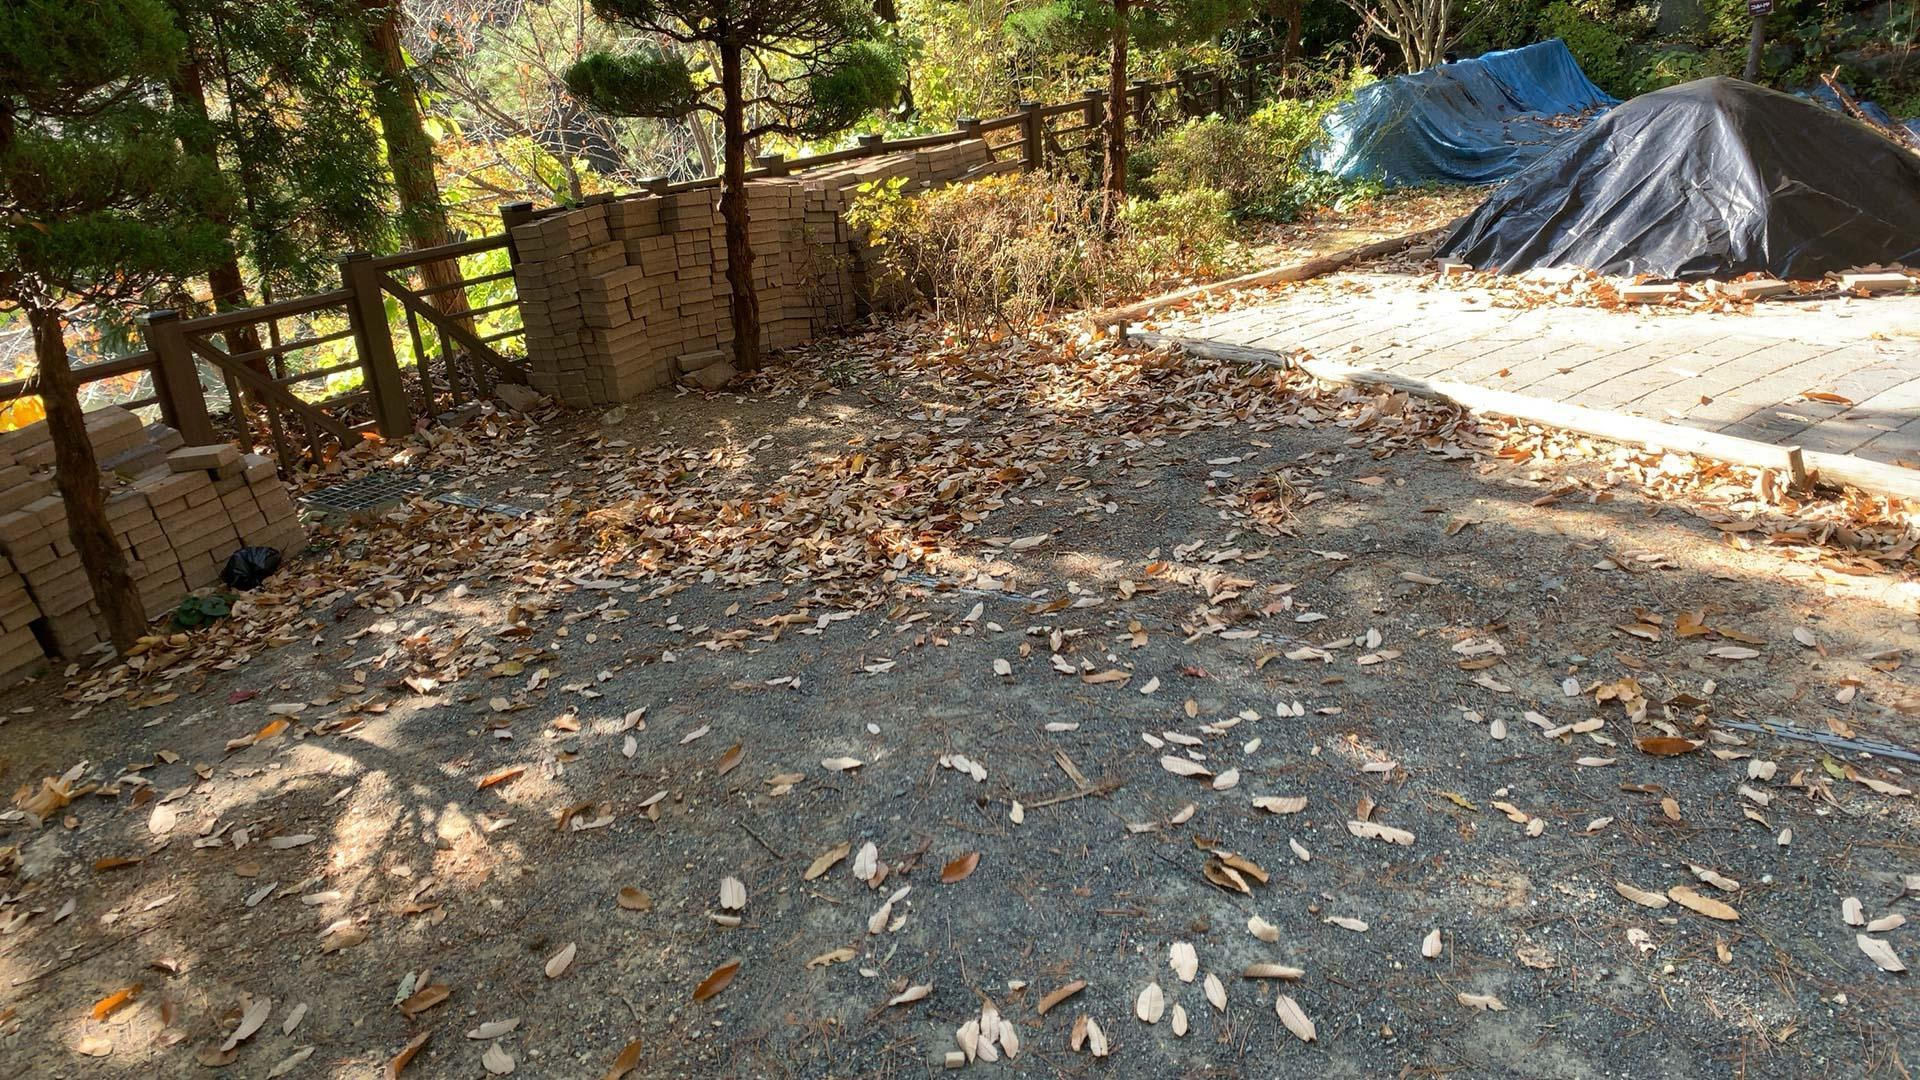black_bag: (214, 537, 285, 589)
